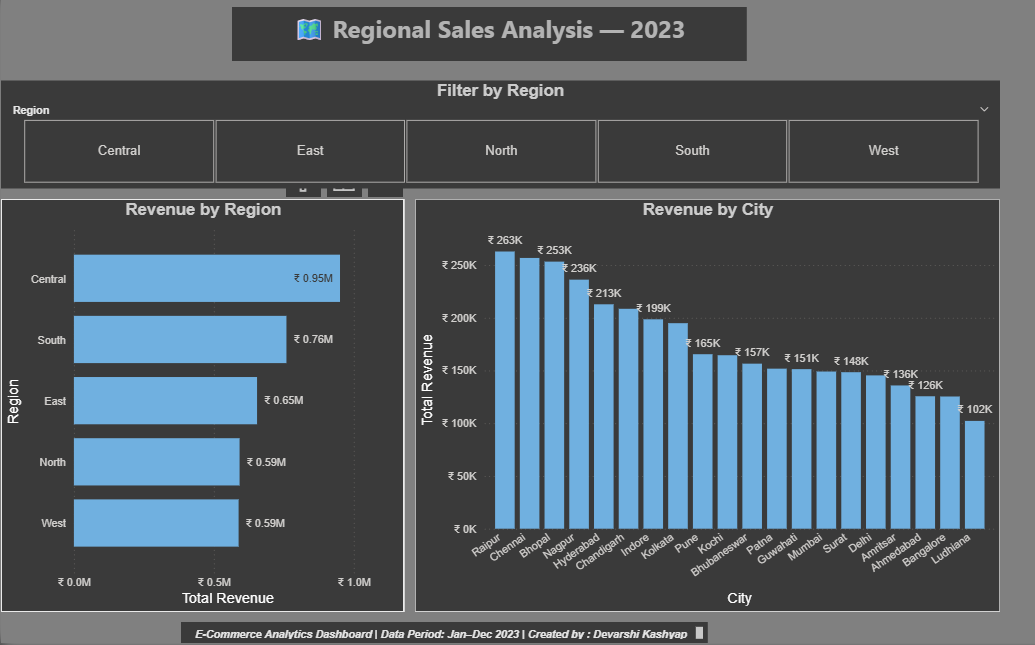

Layout of this report page (visuals, bound fields, positions):
{"tool":"powerbi","page":{"name":"Regional Analysis","canvas":[1280,720],"ordinal":2},"visuals":[{"type":"clusteredBarChart","title":"Revenue by Region","fields":{"Category":["Sales_data.Region"],"Y":["_Measures.Total Revenue"]},"box":[0,226.7,448.3,458.3],"z":0},{"type":"clusteredColumnChart","title":"Revenue by City","fields":{"Category":["Sales_data.City"],"Y":["_Measures.Total Revenue"]},"box":[460,226.7,650,458.3],"z":1},{"type":"slicer","title":"Filter by Region","fields":{"Values":["Sales_data.Region"]},"box":[0,95,1110,120],"z":2},{"type":"textbox","box":[256.7,13.3,571.7,60],"z":3},{"type":"textbox","box":[200,696.7,585,23.3],"z":4},{"type":"slicer","title":"Filter by Month","fields":{"Values":["Date_Table.Month Name"]},"box":[10,226.7,226.7,458.3],"z":5}]}

Visuals, with their boxes on the page's 1280x720 design canvas (x1, y1, x2, y2). These are canvas units, not pixel positions in the 1035x645 screenshot, which may show the page scaled, cropped or inside an application window:
"Revenue by Region" clusteredBarChart: {"x1": 0, "y1": 227, "x2": 448, "y2": 685}
"Revenue by City" clusteredColumnChart: {"x1": 460, "y1": 227, "x2": 1110, "y2": 685}
"Filter by Region" slicer: {"x1": 0, "y1": 95, "x2": 1110, "y2": 215}
textbox: {"x1": 257, "y1": 13, "x2": 828, "y2": 73}
textbox: {"x1": 200, "y1": 697, "x2": 785, "y2": 720}
"Filter by Month" slicer: {"x1": 10, "y1": 227, "x2": 237, "y2": 685}
